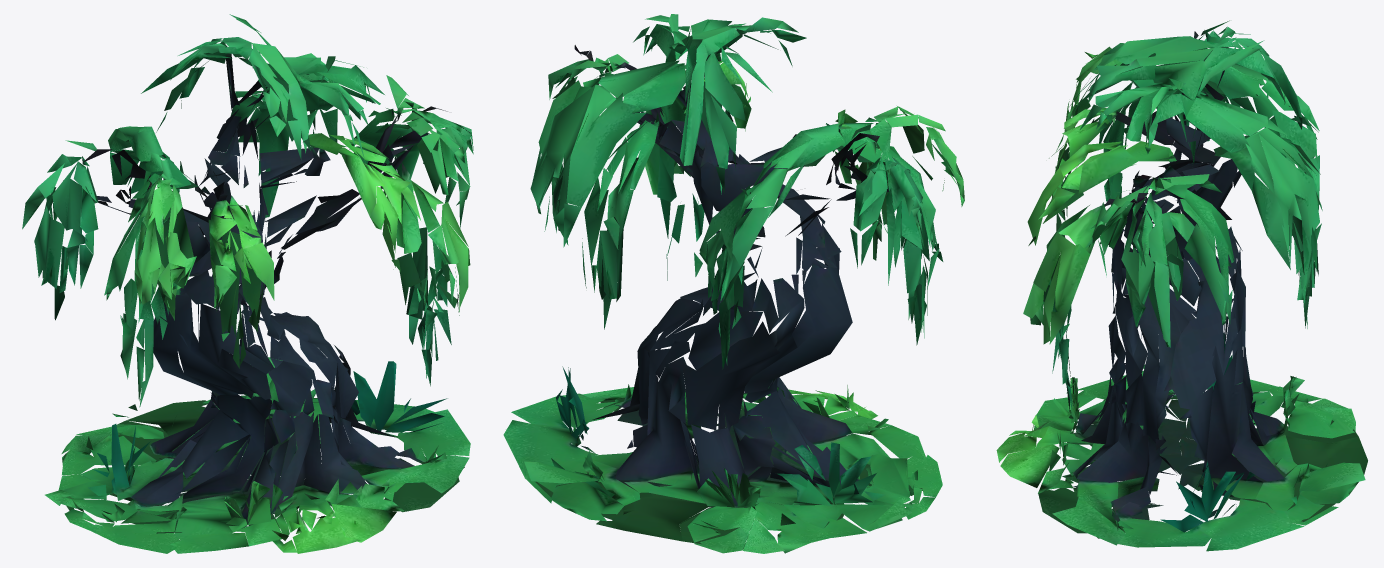
The model's file is tripo-salgueiro153-lod.glb.
3 views of the same model, side by side, from view 1: azimuth 30°, elevation 25°; view 2: azimuth 150°, elevation 25°; view 3: azimuth 270°, elevation 25° (orthographic). The views are drawn at different scales.
Parts seen in each view (by area): view 1: tripo_node_7a37d4e1-44f0-40f8-9c16-d926c437a040; view 2: tripo_node_7a37d4e1-44f0-40f8-9c16-d926c437a040; view 3: tripo_node_7a37d4e1-44f0-40f8-9c16-d926c437a040.
Boxes of the visible parts, x1=… form: tripo_node_7a37d4e1-44f0-40f8-9c16-d926c437a040: x1=22, y1=14, x2=473, y2=553; tripo_node_7a37d4e1-44f0-40f8-9c16-d926c437a040: x1=503, y1=14, x2=964, y2=553; tripo_node_7a37d4e1-44f0-40f8-9c16-d926c437a040: x1=996, y1=20, x2=1367, y2=551.
Bounding box in the file's own units: 0.9887 × 0.9838 × 0.7705.
Materials: 1 (1 with a texture image).
